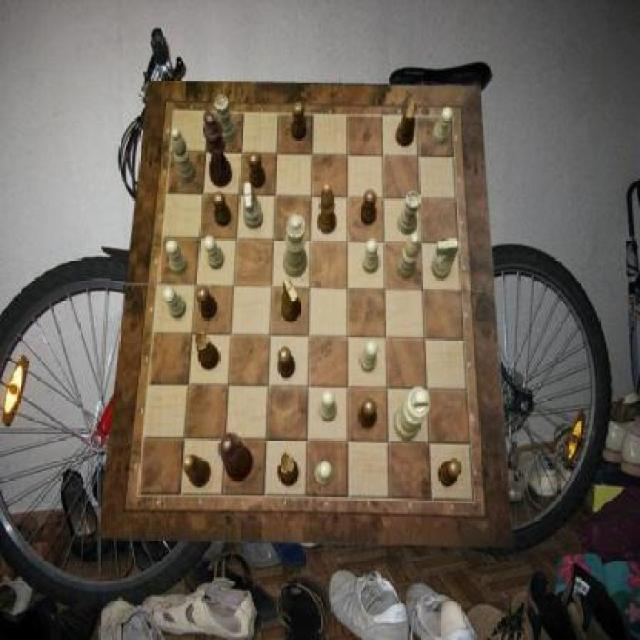bishop: (318, 183, 338, 235), (183, 456, 211, 490)
black-bishop: (203, 111, 232, 188)
black-king: (396, 100, 416, 148), (282, 278, 302, 322)
black-knight: (212, 192, 232, 228), (197, 286, 218, 320), (438, 460, 462, 488), (248, 151, 265, 188), (358, 398, 378, 429), (360, 190, 377, 226), (291, 102, 307, 140), (279, 348, 296, 380)
black-pawn: (218, 434, 254, 481)
black-queen: (194, 331, 218, 369), (277, 452, 299, 487)
black-rook: (172, 128, 197, 184), (397, 234, 420, 280)
white-bishop: (394, 388, 431, 442)
white-king: (430, 240, 458, 282), (244, 183, 264, 229)
white-knight: (166, 240, 189, 276), (432, 108, 452, 146), (163, 288, 186, 320), (204, 235, 224, 270), (358, 338, 378, 372), (318, 391, 338, 423), (363, 239, 380, 273), (316, 461, 334, 487)
white-pawn: (283, 215, 308, 278)
white-queen: (398, 192, 422, 236), (216, 97, 238, 145)
